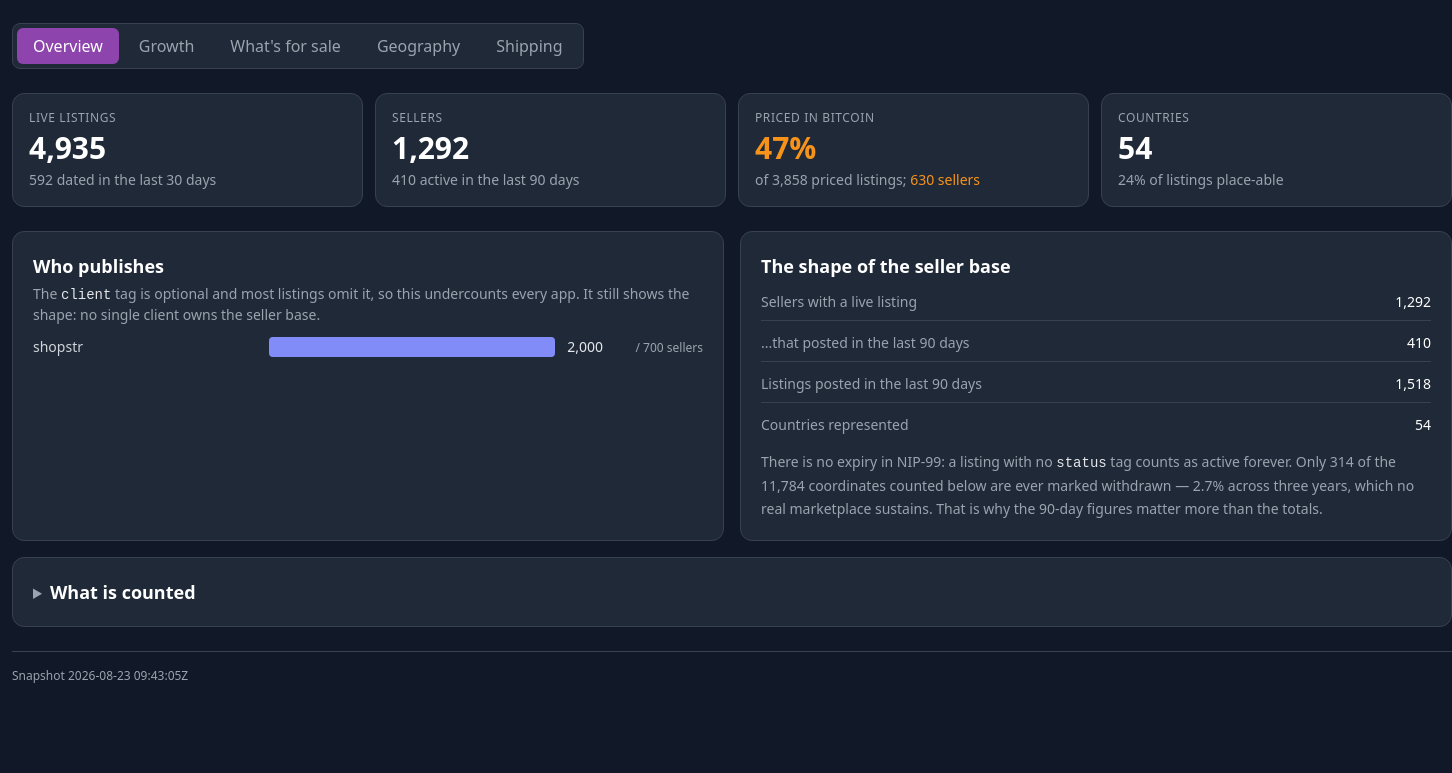
Scenario: /marketplaces page (DB-powered) › keys new listings per month as /git keys its weekly bars, and names the partial month under the plot
What coordinates should you click on to do the following:
click the link with id "tab-growth"
I would click on:
 (167, 46)
Its box is [139, 35, 194, 57].
(page scrolled)
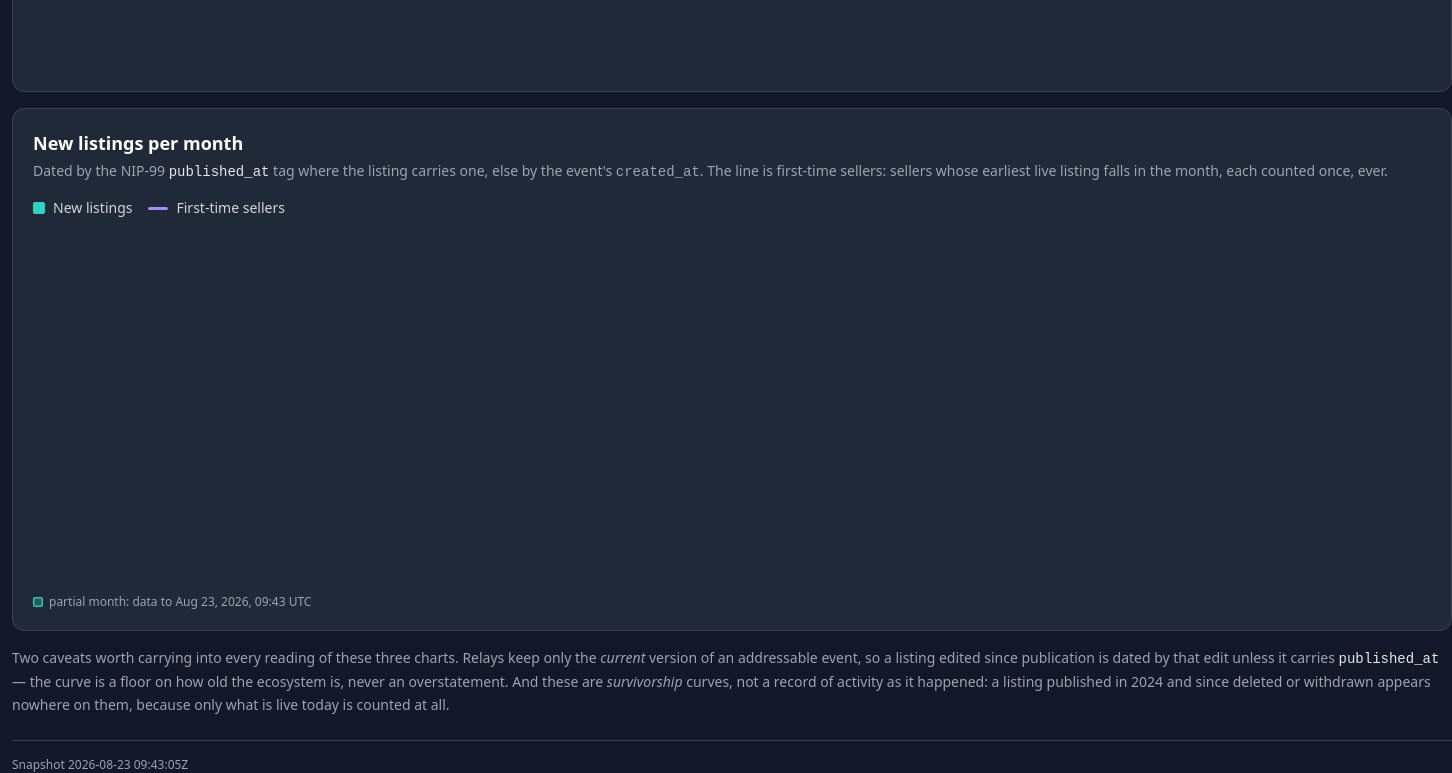
Check: the element that starts with "Dated by the NIP-99" shows "The line is first-time sellers: sellers whose earliest live listing falls in the month, each counted once, ever.", box [700, 161, 1388, 180]
